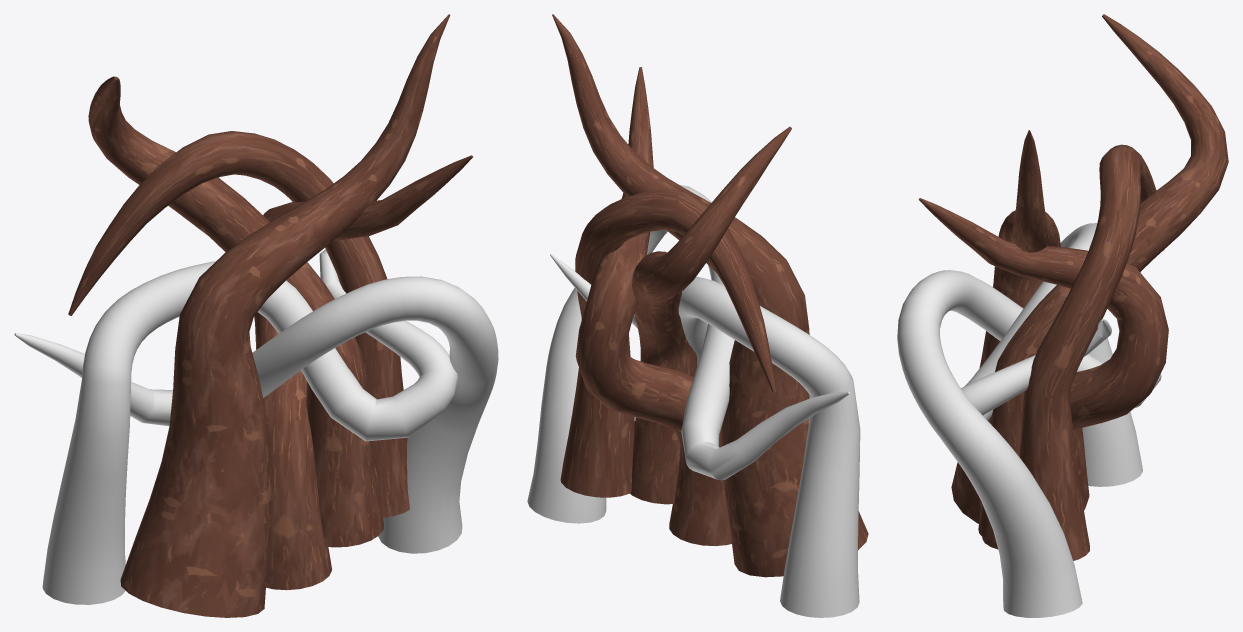
File: Rampicanti.fbx
3 views of the same model, side by side, from view 1: azimuth 30°, elevation 25°; view 2: azimuth 150°, elevation 25°; view 3: azimuth 270°, elevation 25° (orthographic). The views are drawn at different scales.
Visible parts, largest first — view 1: Cylinder, Cylinder.004, Cylinder.003, Cylinder.002, Cylinder.001, Cylinder.005; view 2: Cylinder, Cylinder.004, Cylinder.003, Cylinder.005, Cylinder.002, Cylinder.001; view 3: Cylinder.003, Cylinder.002, Cylinder.001, Cylinder.005, Cylinder.004, Cylinder.
Boxes of the visible parts, bbox=[...] form: Cylinder: bbox=[120, 14, 450, 617]; Cylinder.004: bbox=[42, 249, 458, 604]; Cylinder.003: bbox=[14, 276, 498, 553]; Cylinder.002: bbox=[68, 131, 409, 517]; Cylinder.001: bbox=[88, 76, 383, 547]; Cylinder.005: bbox=[254, 155, 472, 590]; Cylinder: bbox=[552, 14, 868, 577]; Cylinder.004: bbox=[550, 254, 860, 617]; Cylinder.003: bbox=[527, 185, 849, 523]; Cylinder.005: bbox=[575, 67, 731, 545]; Cylinder.002: bbox=[560, 189, 776, 497]; Cylinder.001: bbox=[630, 126, 791, 504]; Cylinder.003: bbox=[897, 270, 1161, 617]; Cylinder.002: bbox=[1019, 144, 1164, 560]; Cylinder.001: bbox=[978, 14, 1228, 542]; Cylinder.005: bbox=[918, 198, 1168, 549]; Cylinder.004: bbox=[961, 223, 1142, 486]; Cylinder: bbox=[951, 130, 1089, 523].
Size of the model in its own units: 1052 by 1353 by 820.
